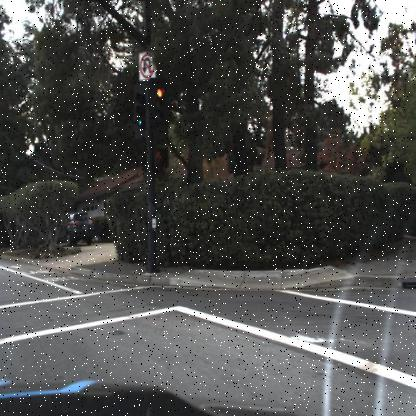car: (49, 211, 99, 252)
trafficLight-Green: (133, 82, 149, 141)
trafficLight-Red: (150, 81, 167, 138)
